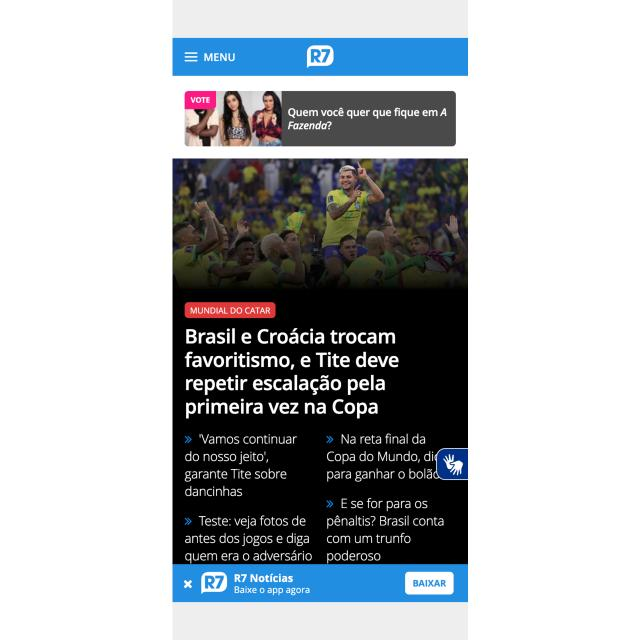logo: (303, 43, 337, 70)
navigation: (180, 44, 203, 68)
